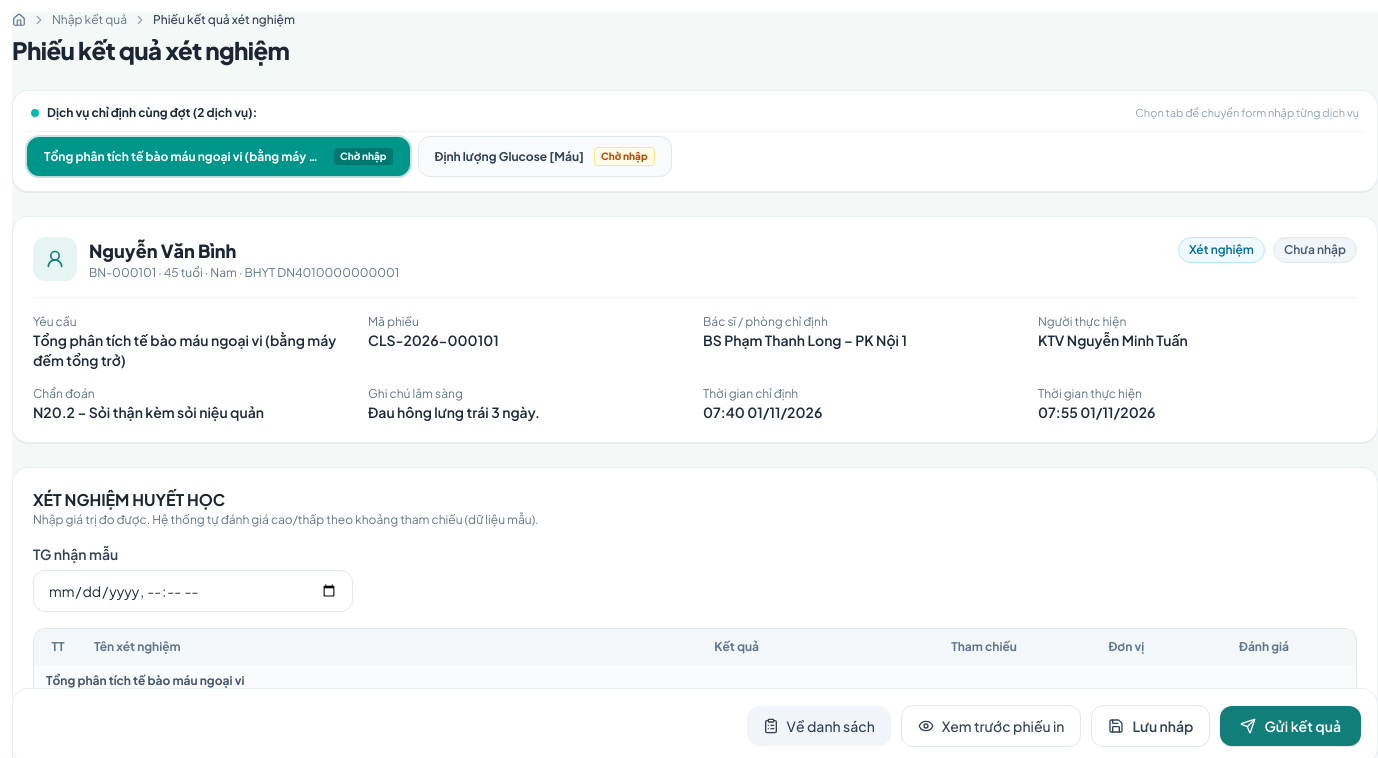
Scenario: ParaclinicalResultPage (UC-67, UC-68) › tabs of the services ordered together › preloads the other tabs and switches without loading again
This screenshot has width=1378, height=758.
expect the button "Gửi kết quả" is shown: met, box [1220,706,1361,746]
What coordinates should you click on to do the following:
click the button "Định lượng Glucose [Máu] Chờ nhập"
I would click on:
 (545, 157)
Its box is [418,136,672,177].
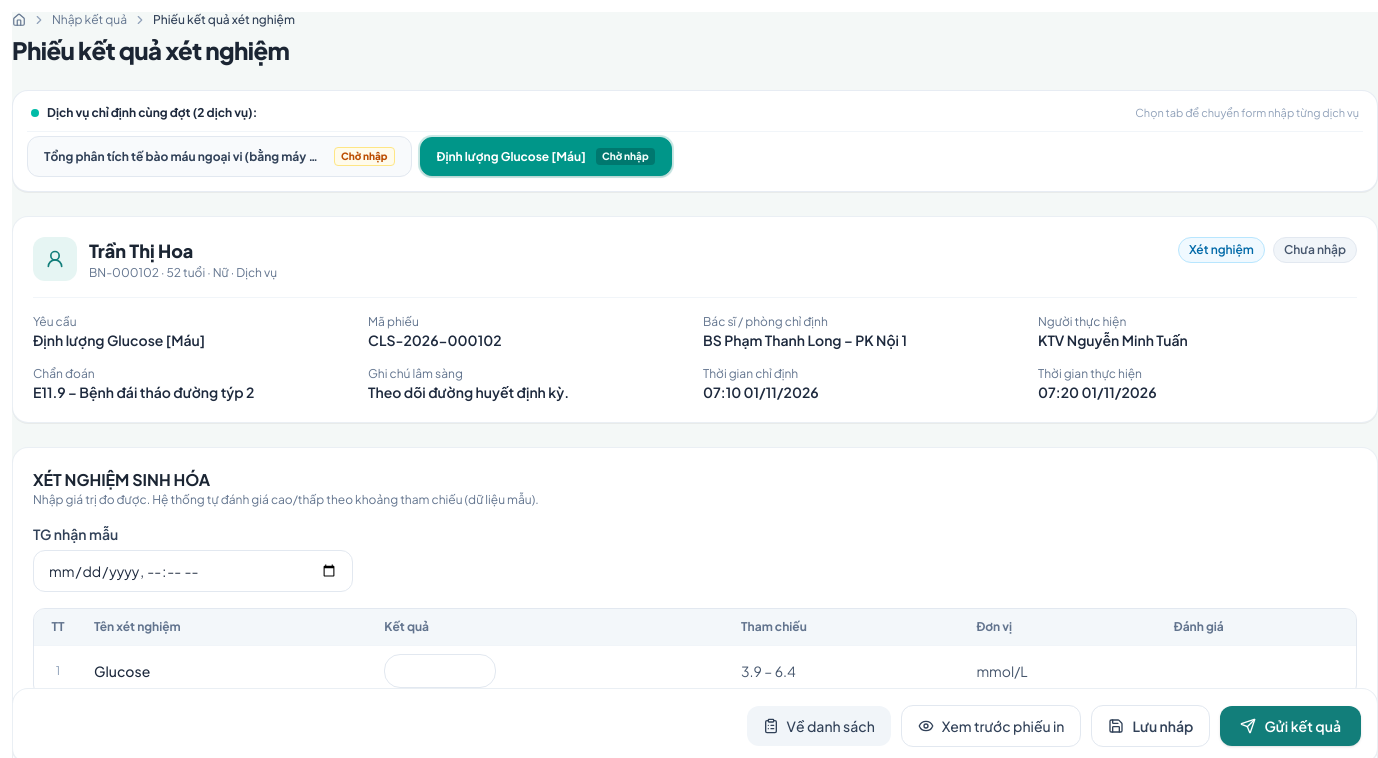
expect the text "CLS-2026-000102" is shown: met, box [368,331,502,349]
